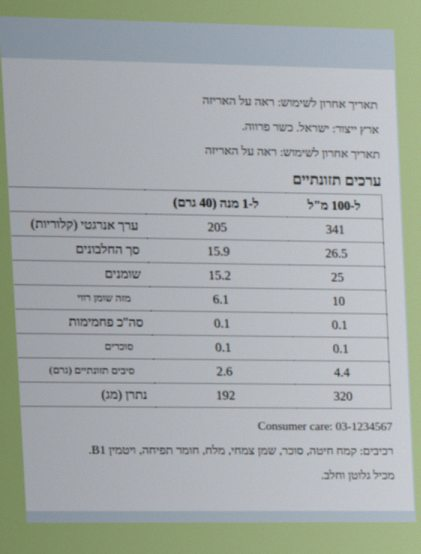carbs: (330, 317, 349, 333)
energy: (324, 221, 347, 238)
fat: (329, 269, 346, 285)
protein: (323, 245, 349, 262)
